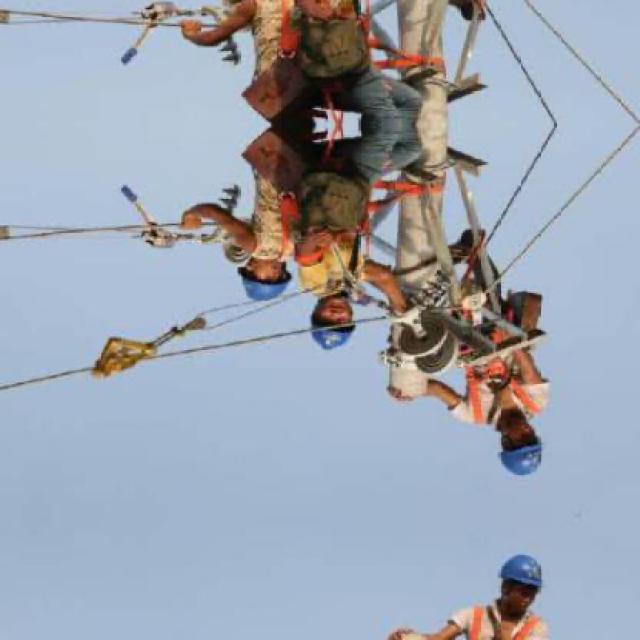con casco: (278, 292, 386, 366), (220, 262, 292, 312)
